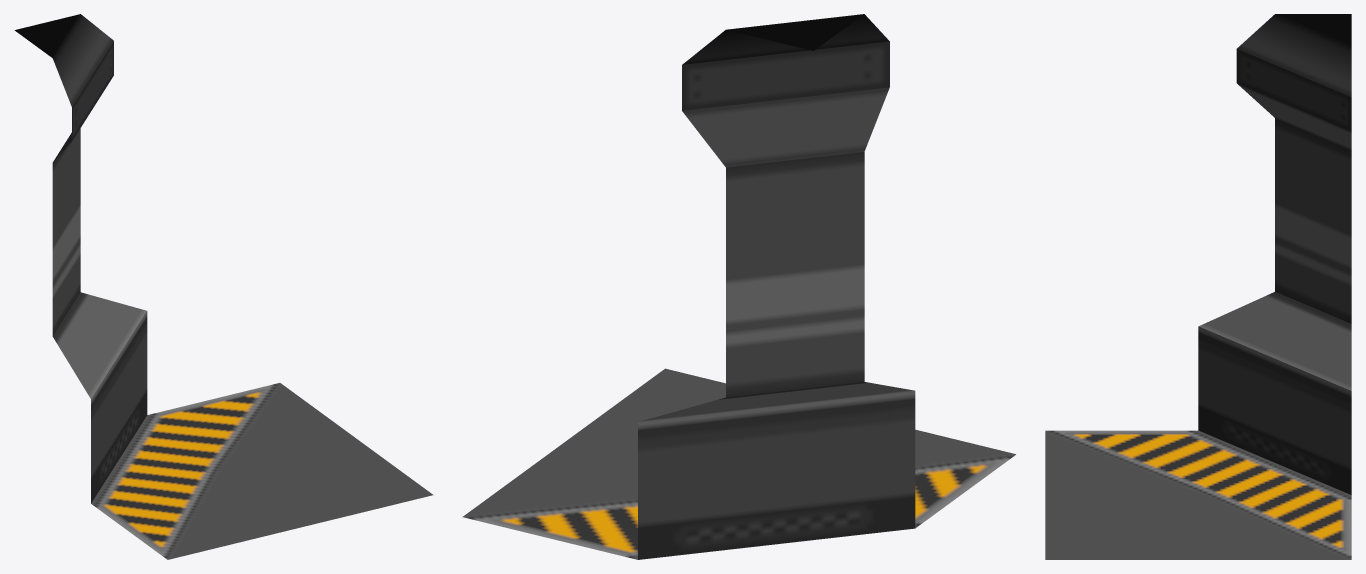
3 views of the same model, side by side, from view 1: azimuth 30°, elevation 25°; view 2: azimuth 150°, elevation 25°; view 3: azimuth 270°, elevation 25° (orthographic). The views are drawn at different scales.
Visible parts, largest first — view 1: Quad_1; view 2: Quad_1; view 3: Quad_1.
Boxes of the visible parts, bbox=[...] form: Quad_1: bbox=[14, 14, 433, 559]; Quad_1: bbox=[462, 14, 1015, 559]; Quad_1: bbox=[1045, 14, 1351, 559].
Size of the model in its own units: 200 by 300 by 200.
